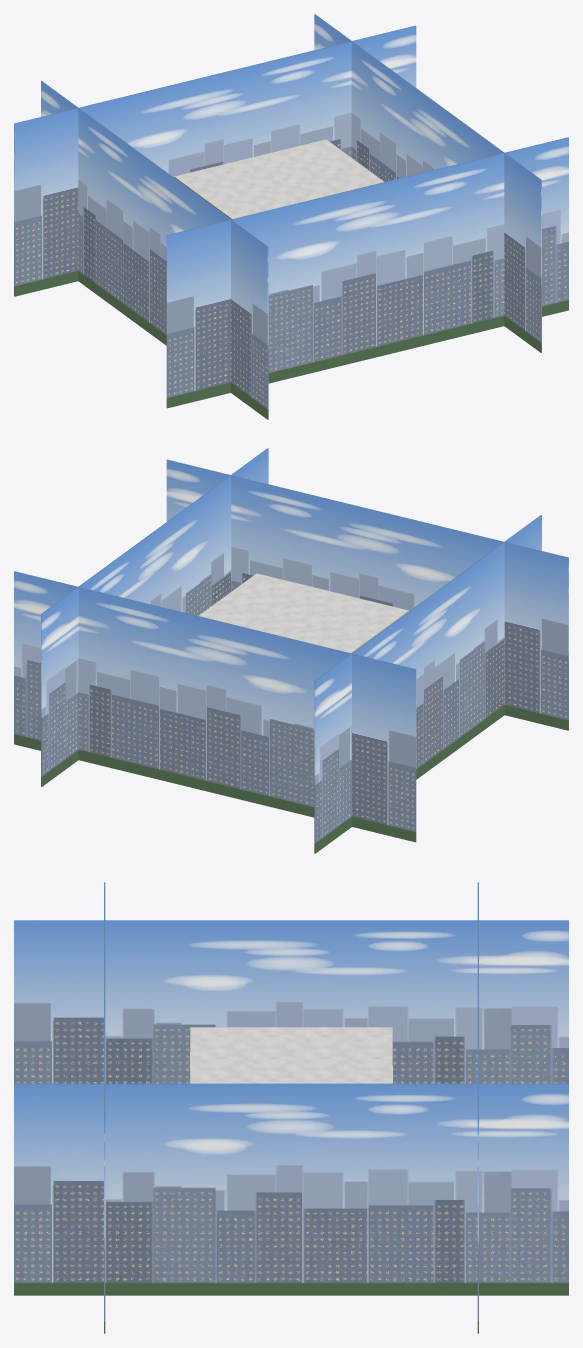
File: interior.glb
The picture shows the model from 3 angles, top to bottom: view 1: azimuth 30°, elevation 25°; view 2: azimuth 150°, elevation 25°; view 3: azimuth 270°, elevation 25°; orthographic projection. The views are drawn at different scales.
Parts seen in each view (by area): view 1: Sky_Front, Sky_Back, Sky_West, Sky_East, Ceiling; view 2: Sky_Back, Sky_Front, Sky_West, Sky_East, Ceiling; view 3: Sky_East, Sky_West, Ceiling, Sky_Back, Sky_Front.
Part boxes in pixels (x1,y1,x2,y2): Sky_Front: (166, 137, 568, 408); Sky_Back: (14, 25, 416, 296); Sky_West: (41, 81, 268, 419); Sky_East: (314, 14, 541, 352); Ceiling: (174, 139, 383, 219); Sky_Back: (14, 571, 416, 842); Sky_Front: (166, 459, 568, 730); Sky_West: (314, 515, 541, 853); Sky_East: (41, 448, 268, 786); Ceiling: (199, 573, 408, 653); Sky_East: (14, 1083, 568, 1295); Sky_West: (14, 920, 568, 1083); Ceiling: (190, 1027, 392, 1083); Sky_Back: (477, 882, 478, 1333); Sky_Front: (104, 882, 105, 1333).
Bounding box in the file's own units: 21.9 × 9 × 21.4.
20 materials, 20 textured.
